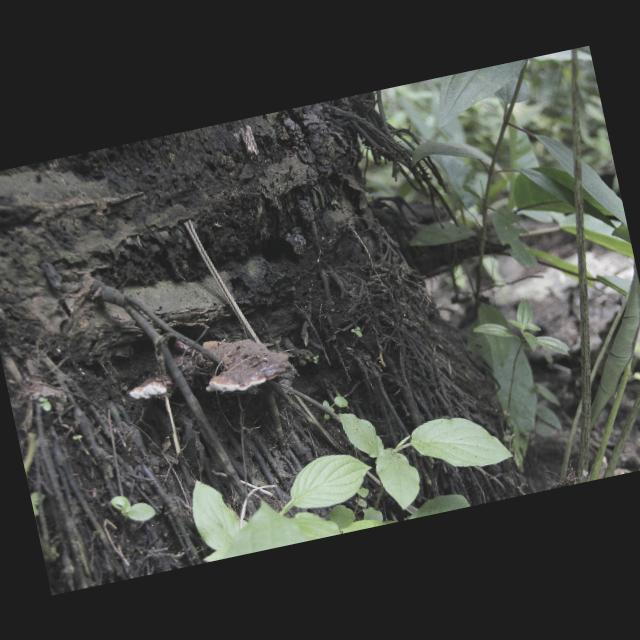ganoderma: (197, 326, 296, 399), (128, 374, 177, 404)
